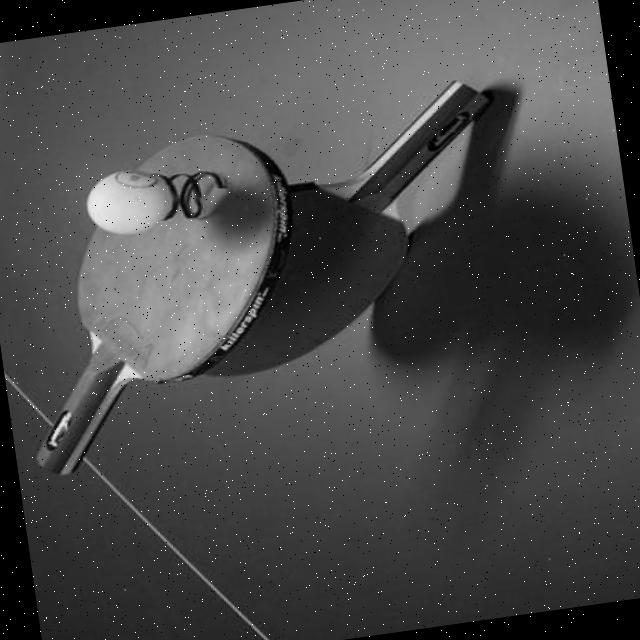ping-pong-ball: (82, 166, 174, 237)
